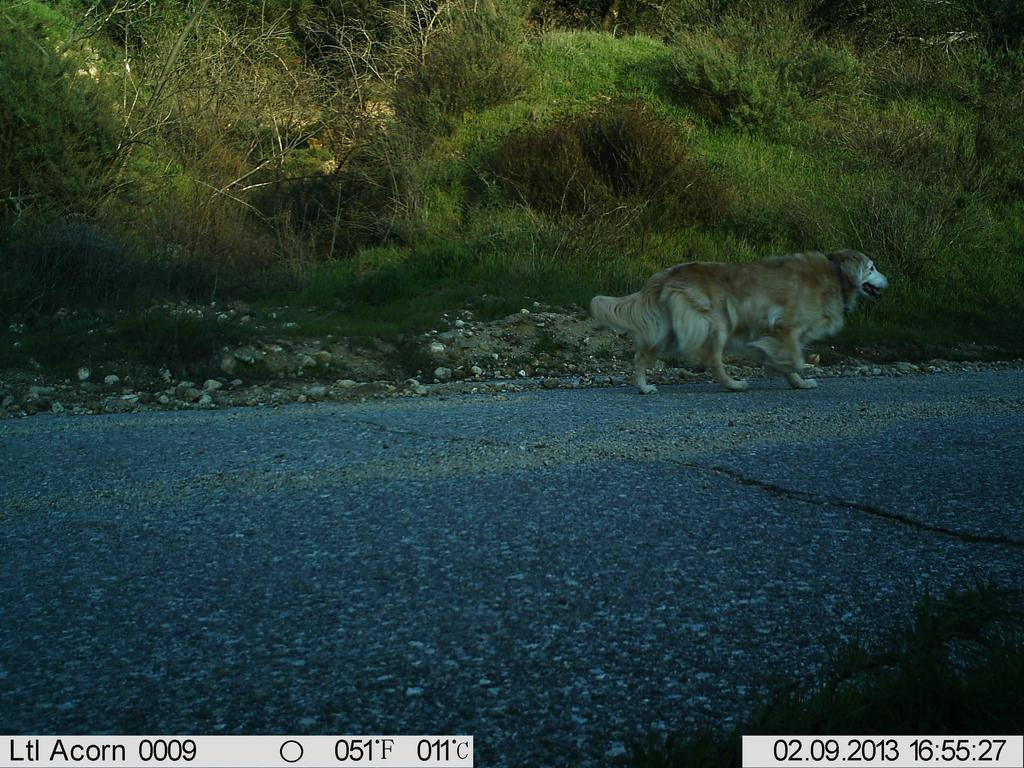dog: (591, 246, 898, 399)
